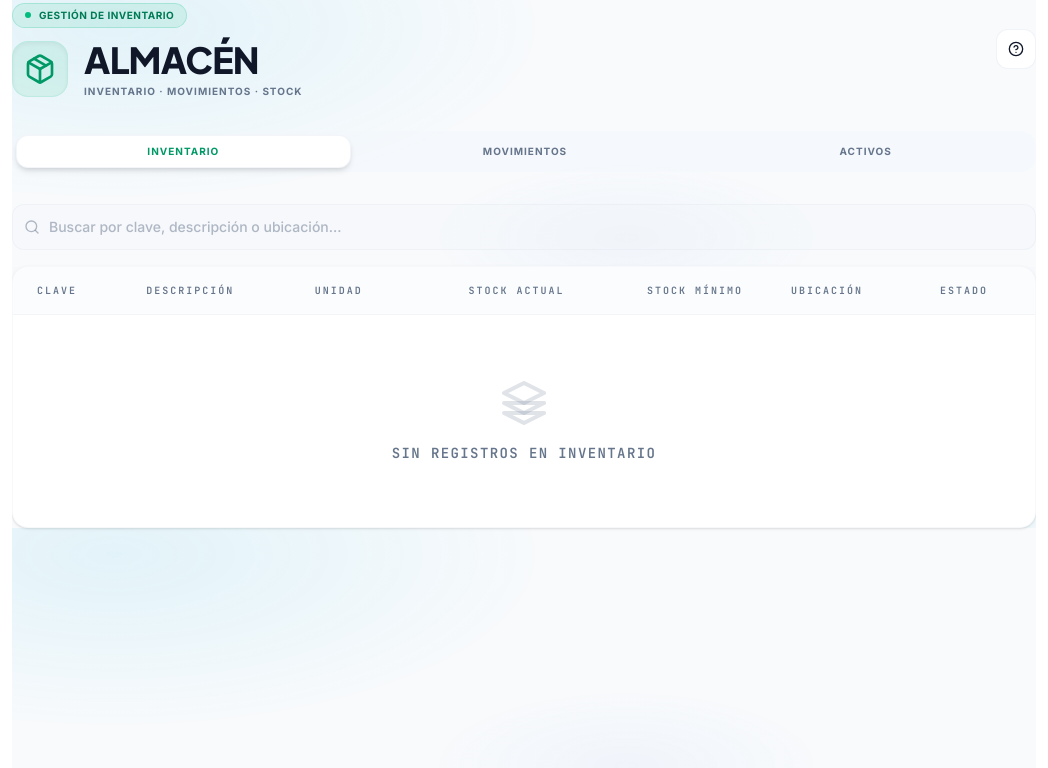
AlmacenView — ayuda del módulo › muestra el botón de ayuda y al hacer clic abre el panel con el título del módulo
Click the button named "ayuda".
click(1016, 49)  # box [996, 29, 1036, 69]
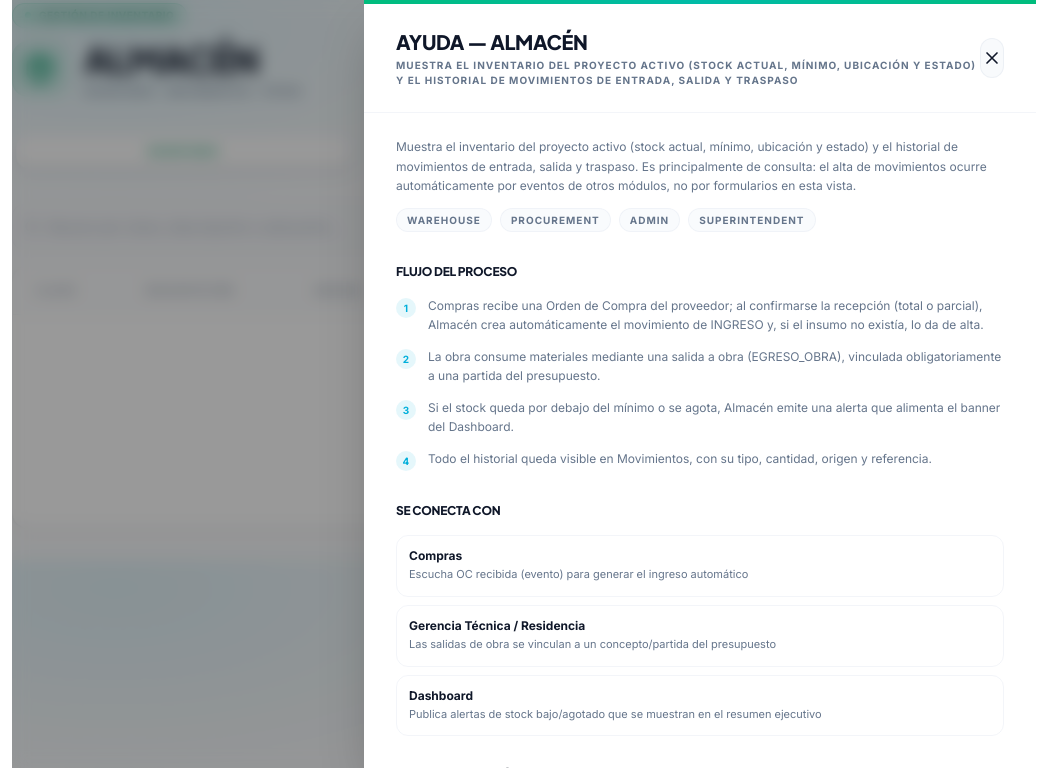
Result: the heading "Ayuda — Almacén" is shown at [396, 29, 587, 54]
